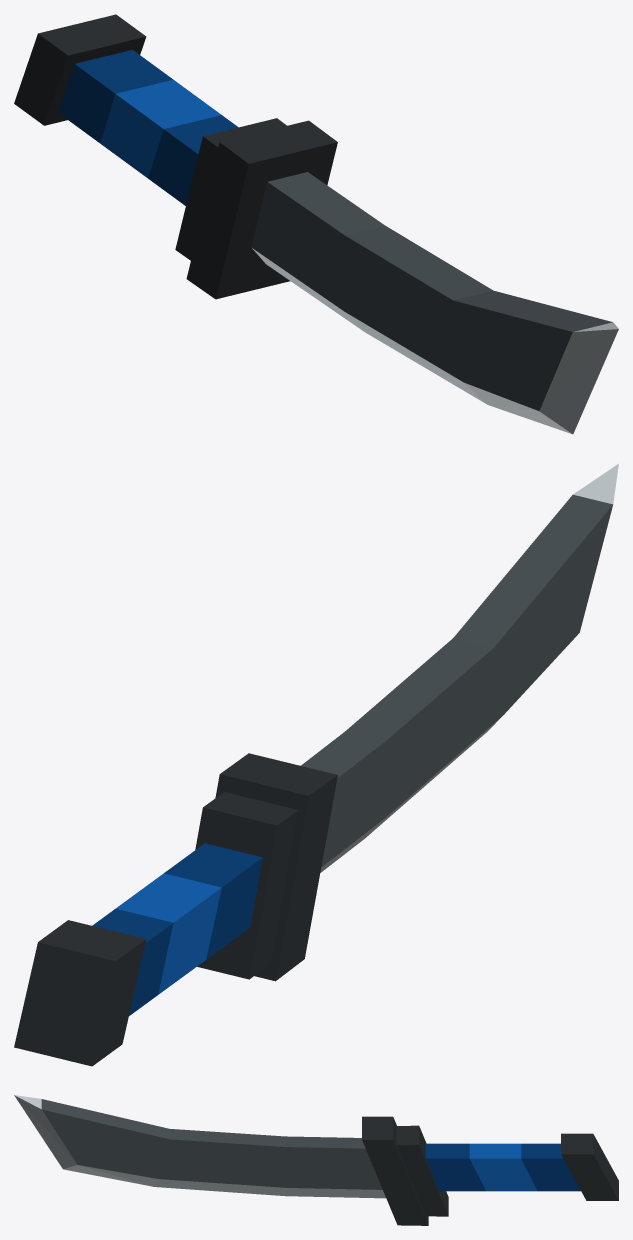
Rendered from Sword 03.FBX.
The picture shows the model from 3 angles, top to bottom: view 1: azimuth 30°, elevation 25°; view 2: azimuth 150°, elevation 25°; view 3: azimuth 270°, elevation 25°; orthographic projection. The views are drawn at different scales.
Parts seen in each view (by area): view 1: Sword 03; view 2: Sword 03; view 3: Sword 03.
Boxes of the visible parts, x1,y1,x2,y2 form: Sword 03: [14, 14, 618, 434]; Sword 03: [14, 463, 618, 1066]; Sword 03: [14, 1095, 618, 1225].
Bounding box in the file's own units: 9 × 21.52 × 98.92.
1 material, 1 textured.
